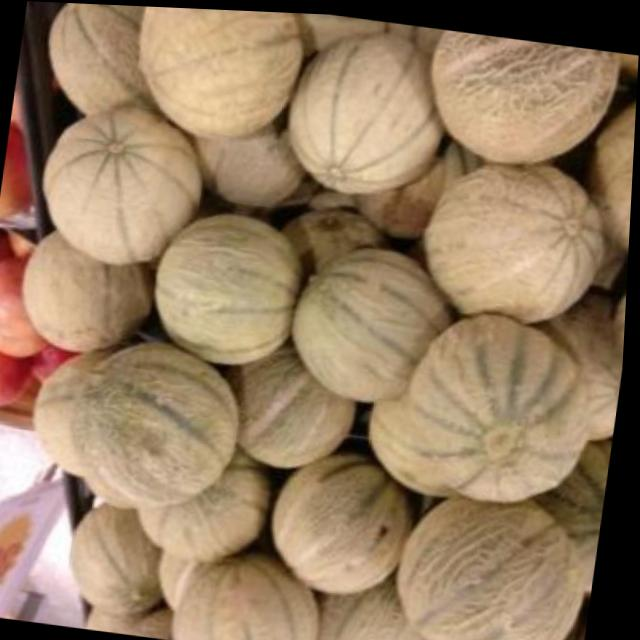Cantaloupe: (390, 302, 620, 504), (419, 144, 626, 328), (384, 475, 605, 640), (10, 94, 217, 269), (63, 330, 254, 509), (275, 28, 460, 207), (144, 210, 301, 366), (121, 4, 307, 133), (263, 450, 419, 602)
